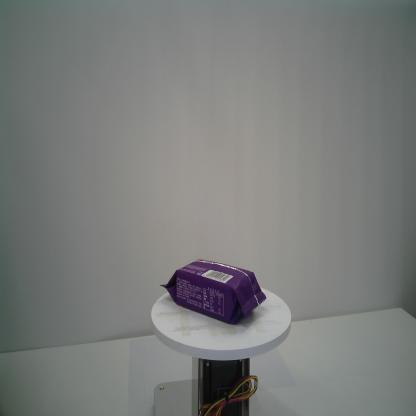Dessert: (159, 259, 266, 323)
